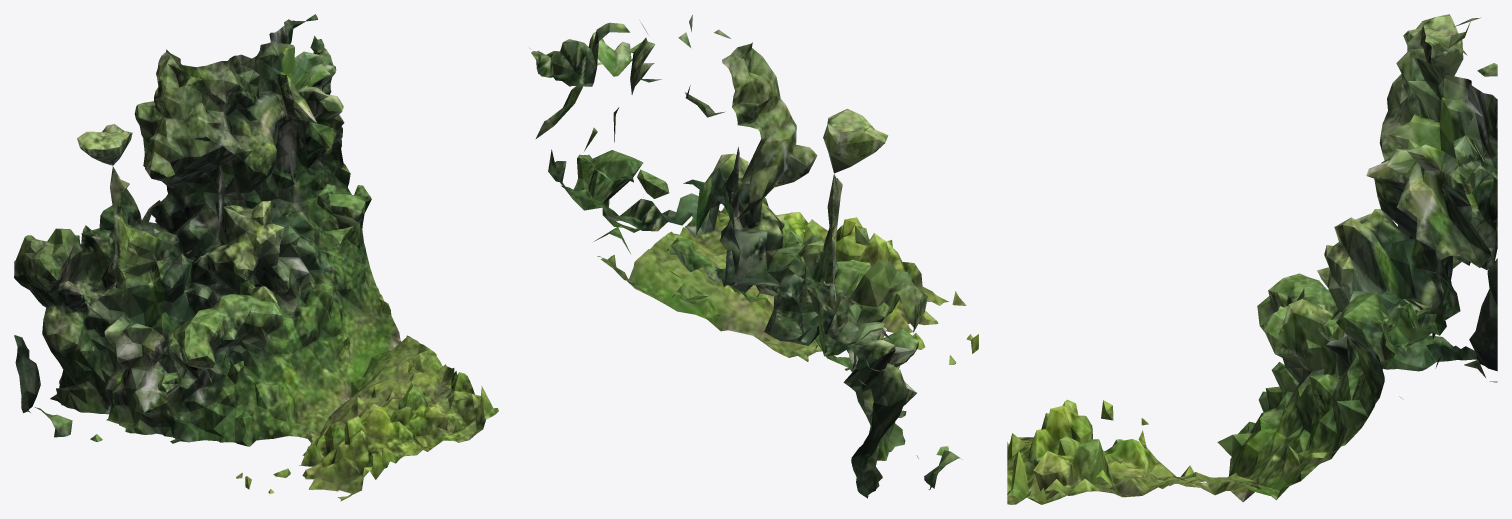
3 views of the same model, side by side, from view 1: azimuth 30°, elevation 25°; view 2: azimuth 150°, elevation 25°; view 3: azimuth 270°, elevation 25° (orthographic). The views are drawn at different scales.
Size of the model in its own units: 26.11 by 26.11 by 26.11.
5 materials, 5 textured.
